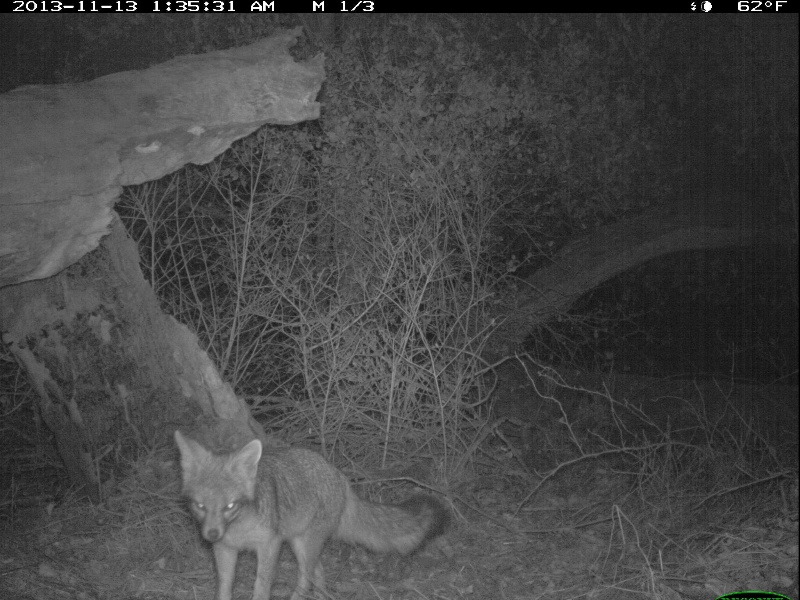fox: (167, 426, 452, 600)
